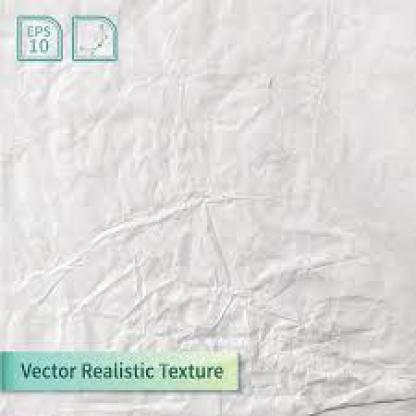paper: (0, 0, 414, 414), (0, 66, 414, 350)
